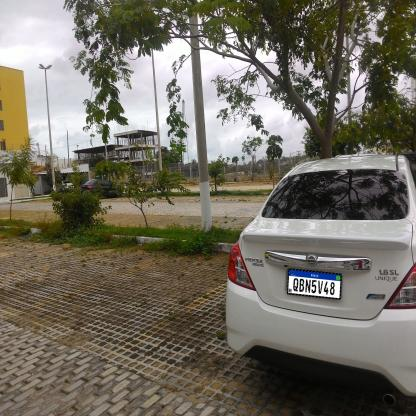PlacaM: (287, 268, 342, 300)
